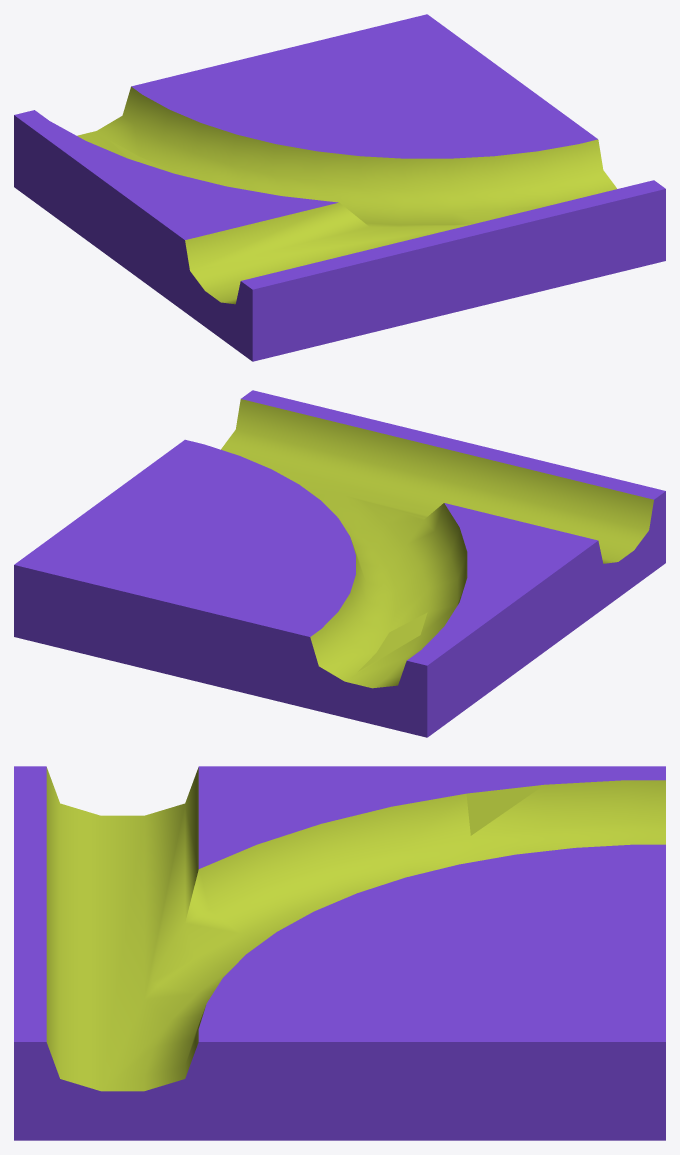
The model's file is split_large_solid_right-col.dae.
The picture shows the model from 3 angles, top to bottom: view 1: azimuth 30°, elevation 25°; view 2: azimuth 150°, elevation 25°; view 3: azimuth 270°, elevation 25°; orthographic projection. The views are drawn at different scales.
Parts seen in each view (by area): view 1: split_large_solid_right-col; view 2: split_large_solid_right-col; view 3: split_large_solid_right-col.
Part boxes in pixels (bbox=[...]): split_large_solid_right-col: bbox=[14, 14, 665, 361]; split_large_solid_right-col: bbox=[14, 390, 665, 737]; split_large_solid_right-col: bbox=[14, 766, 665, 1140].
Bounding box in the file's own units: 3 × 3 × 0.5.
